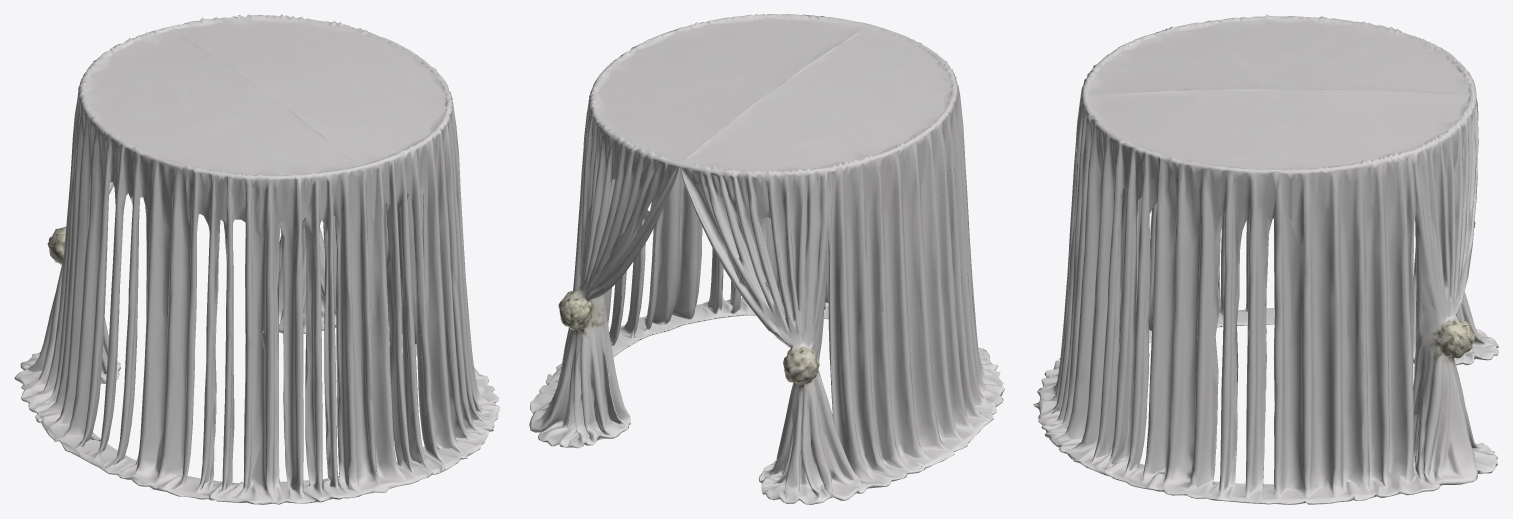
Rendered from chuppah-round-white.glb.
3 renders of one model, left to right at view 1: azimuth 30°, elevation 25°; view 2: azimuth 150°, elevation 25°; view 3: azimuth 270°, elevation 25°, orthographic. The views are drawn at different scales.
Visible parts, largest first — view 1: tripo_node_a185c2d0-49f6-49e8-8b36-2246571aa41b; view 2: tripo_node_a185c2d0-49f6-49e8-8b36-2246571aa41b; view 3: tripo_node_a185c2d0-49f6-49e8-8b36-2246571aa41b.
Part boxes in pixels (<box>): tripo_node_a185c2d0-49f6-49e8-8b36-2246571aa41b: <box>14,14,500,504</box>; tripo_node_a185c2d0-49f6-49e8-8b36-2246571aa41b: <box>529,14,1004,504</box>; tripo_node_a185c2d0-49f6-49e8-8b36-2246571aa41b: <box>1033,14,1498,504</box>.
Size of the model in its own units: 3.38 by 2.55 by 3.38.
1 material, 1 textured.
